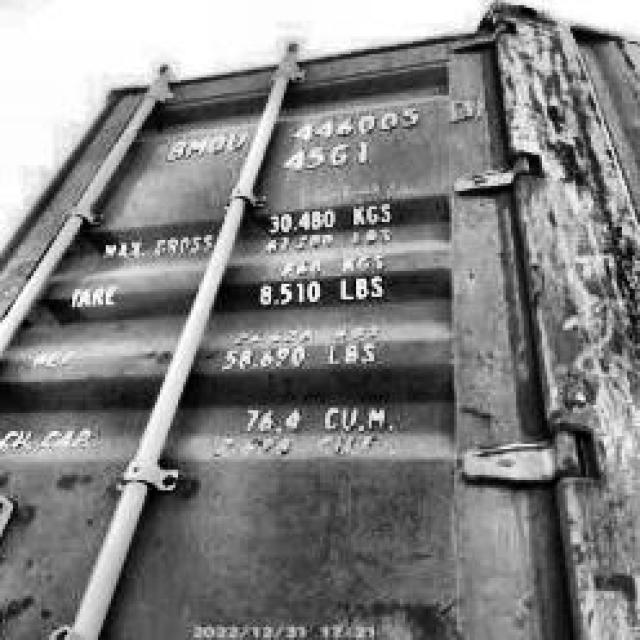ISO: (284, 146, 372, 168)
container_number: (162, 94, 486, 161)
